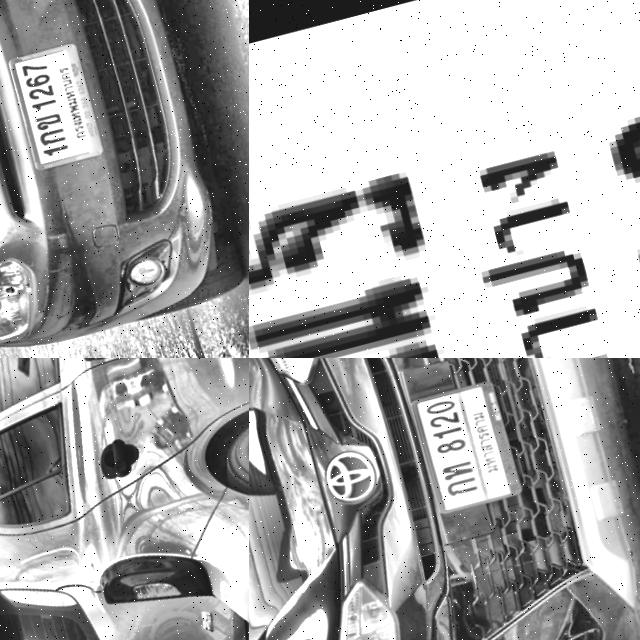license-plate: (249, 0, 640, 358), (404, 376, 527, 517), (0, 37, 111, 174)
